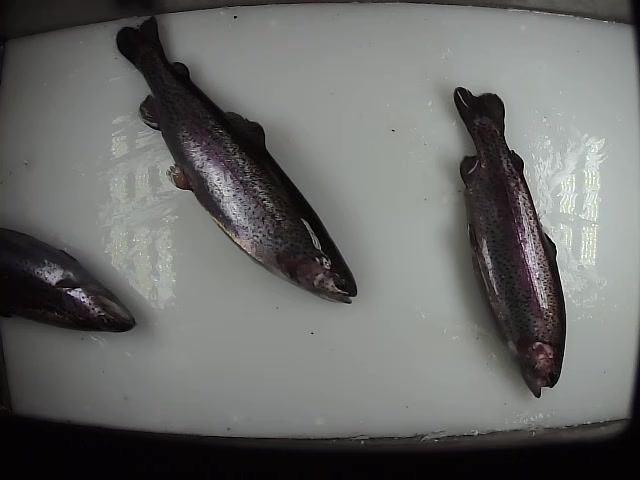Fish: (115, 16, 357, 303), (444, 87, 566, 398)
